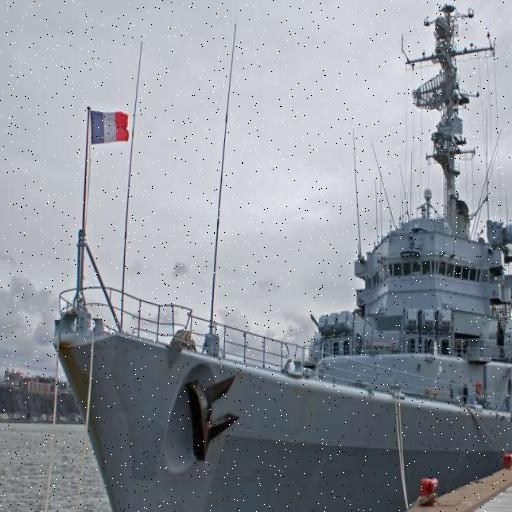Portanaves: (55, 18, 512, 512)
